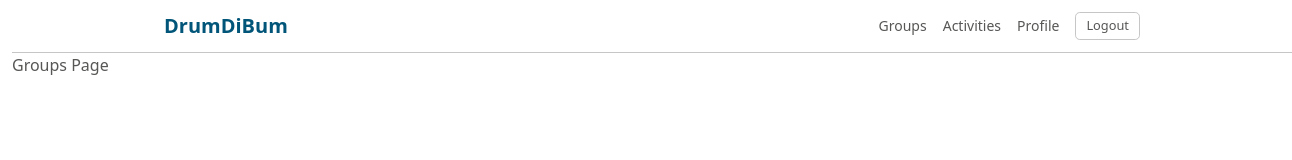
it: Navbar › logs out and navigates back to login
Click the button "Logout" at (1108, 26), box [1075,12,1140,40]
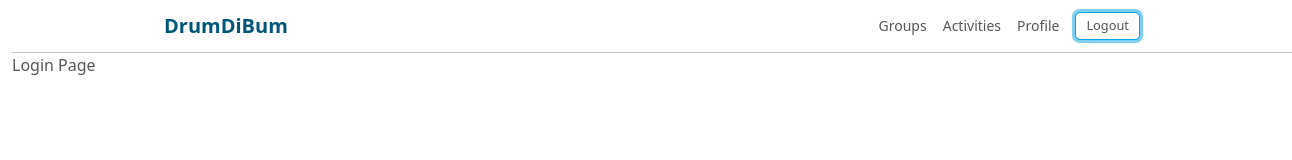
Expected: the text "Login Page" is shown, [12,54,96,76]
